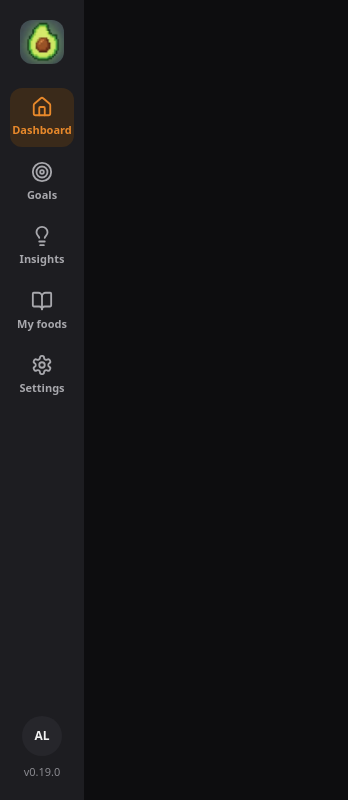
Test case: the rail's bottom (W2) › no email: the username shows under the name
This screenshot has width=348, height=800.
Step 1. Click the button with aria-label "Account menu" → {"x": 42, "y": 736}, box 22,716 -> 62,756
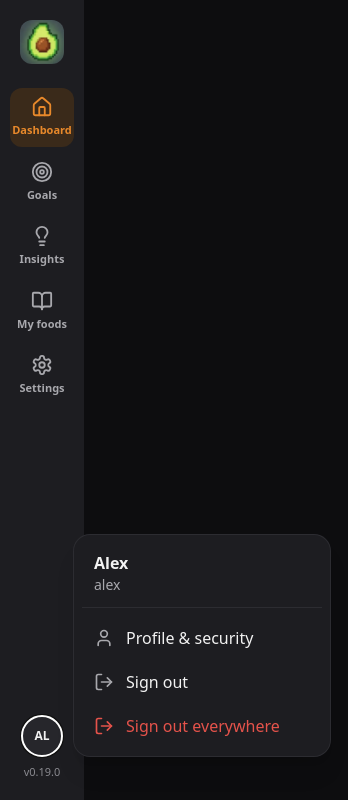
Check: the text "alex" is shown, box 94,574 -> 120,594
